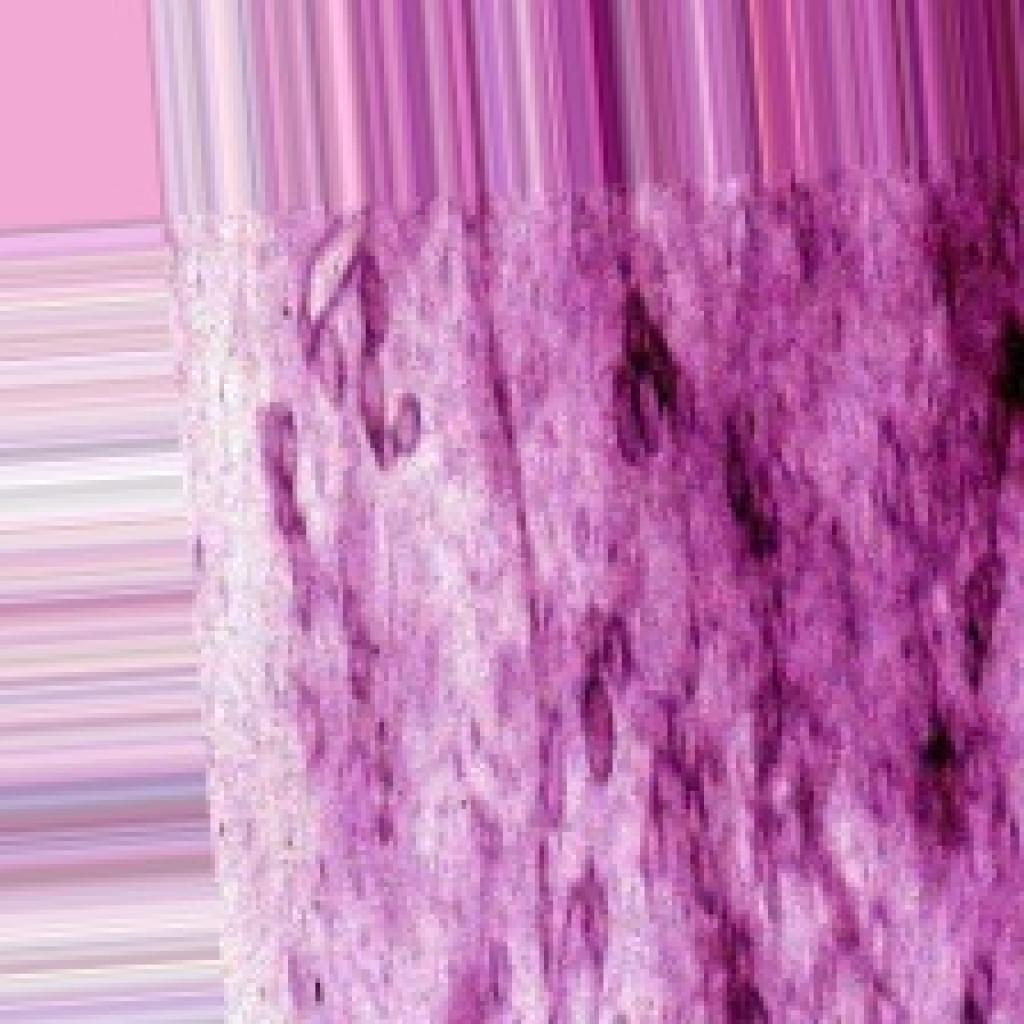Yeast: (132, 0, 1019, 1019)
